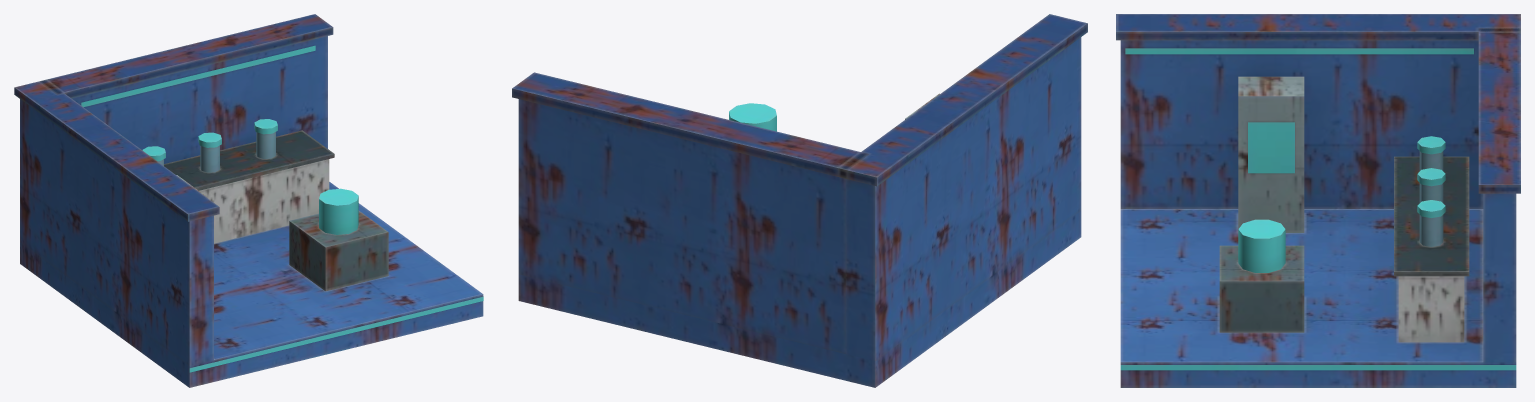
Rendered from research_lab.glb.
3 views of the same model, side by side, from view 1: azimuth 30°, elevation 25°; view 2: azimuth 150°, elevation 25°; view 3: azimuth 270°, elevation 25° (orthographic). The views are drawn at different scales.
Visible parts, largest first — view 1: te_research_lab; view 2: te_research_lab; view 3: te_research_lab.
Boxes of the visible parts, x1,y1,x2,y2 form: te_research_lab: (14,14,483,387); te_research_lab: (512,14,1087,387); te_research_lab: (1116,14,1520,387).
Size of the model in its own units: 0.86 by 0.48 by 0.86.
1 material, 1 textured.
